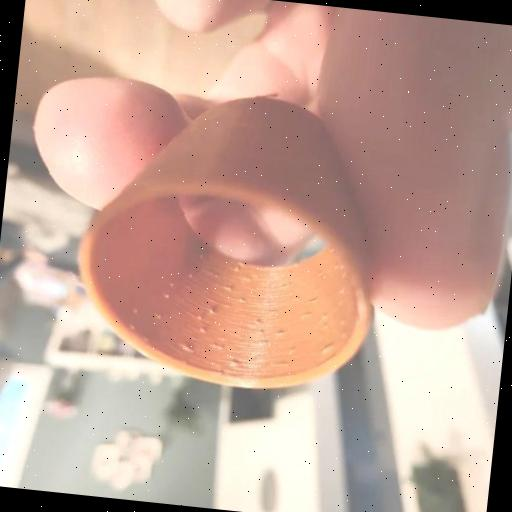blobs: (316, 340, 333, 356), (196, 325, 210, 337), (254, 327, 268, 339), (180, 342, 194, 354), (233, 294, 246, 306), (329, 262, 341, 275), (229, 357, 243, 368), (319, 320, 331, 332), (153, 310, 165, 322), (128, 304, 140, 316), (160, 290, 172, 302), (252, 316, 264, 328), (282, 281, 294, 292), (216, 344, 226, 355), (206, 306, 216, 316), (196, 312, 206, 322), (274, 328, 284, 338), (307, 298, 317, 308), (222, 284, 233, 293), (287, 346, 299, 354), (260, 339, 270, 347), (316, 272, 324, 282), (320, 314, 330, 321), (232, 266, 242, 273)
